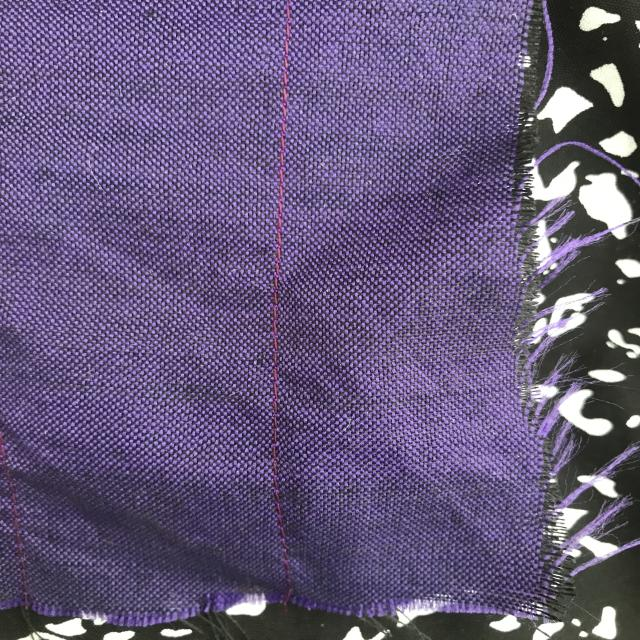good: (250, 239, 288, 456), (276, 52, 300, 182)
